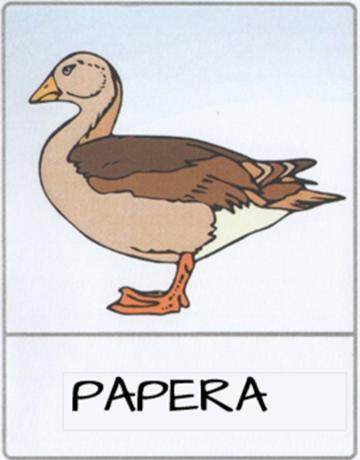papera: (2, 1, 360, 460)
